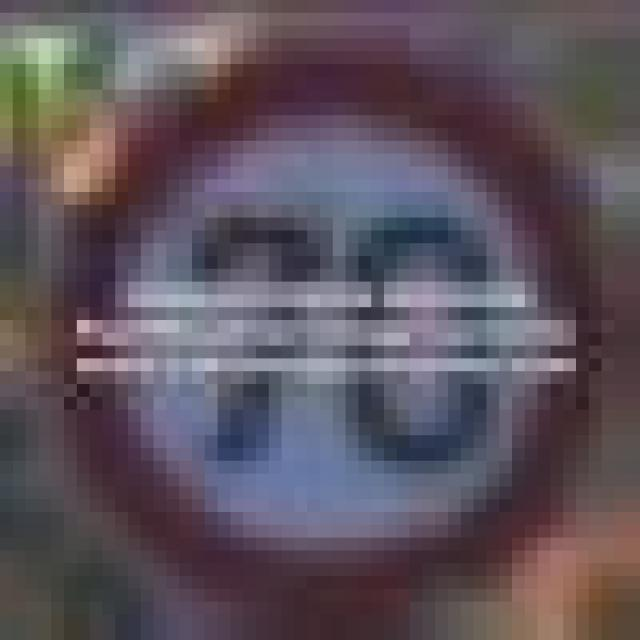SPEED_LIMIT_70: (38, 38, 589, 576)
